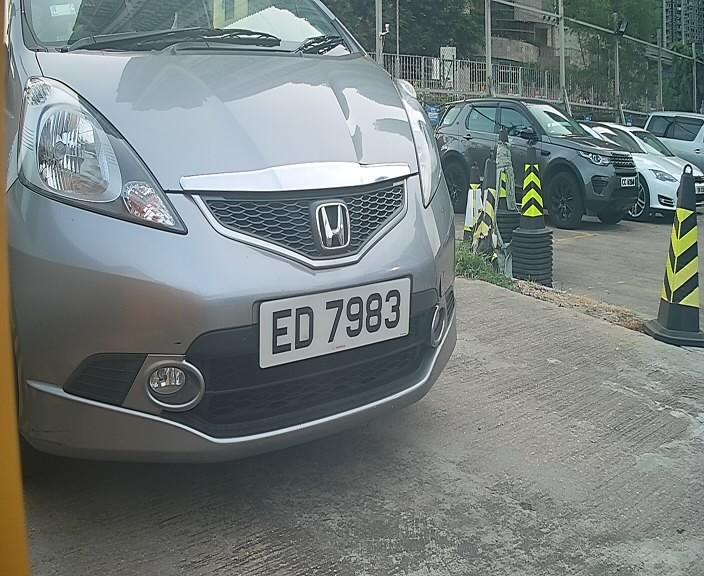License Plate: (255, 271, 419, 366)
